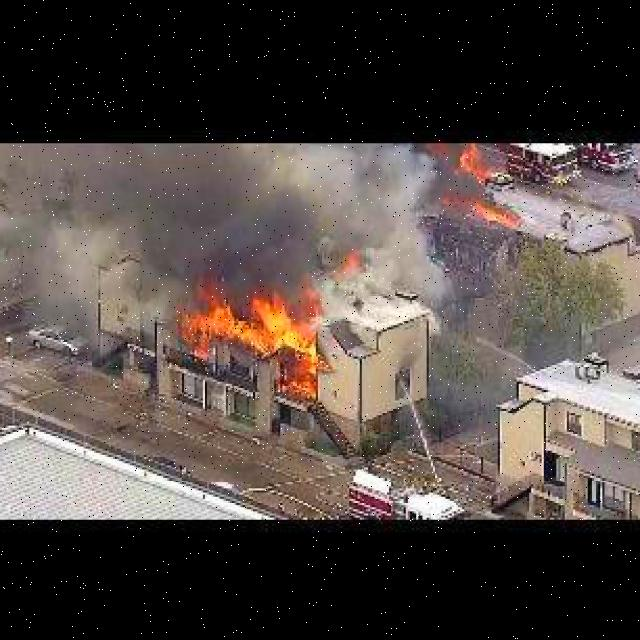fire: (170, 298, 348, 405), (439, 152, 531, 227)
smoke: (98, 145, 448, 300)
